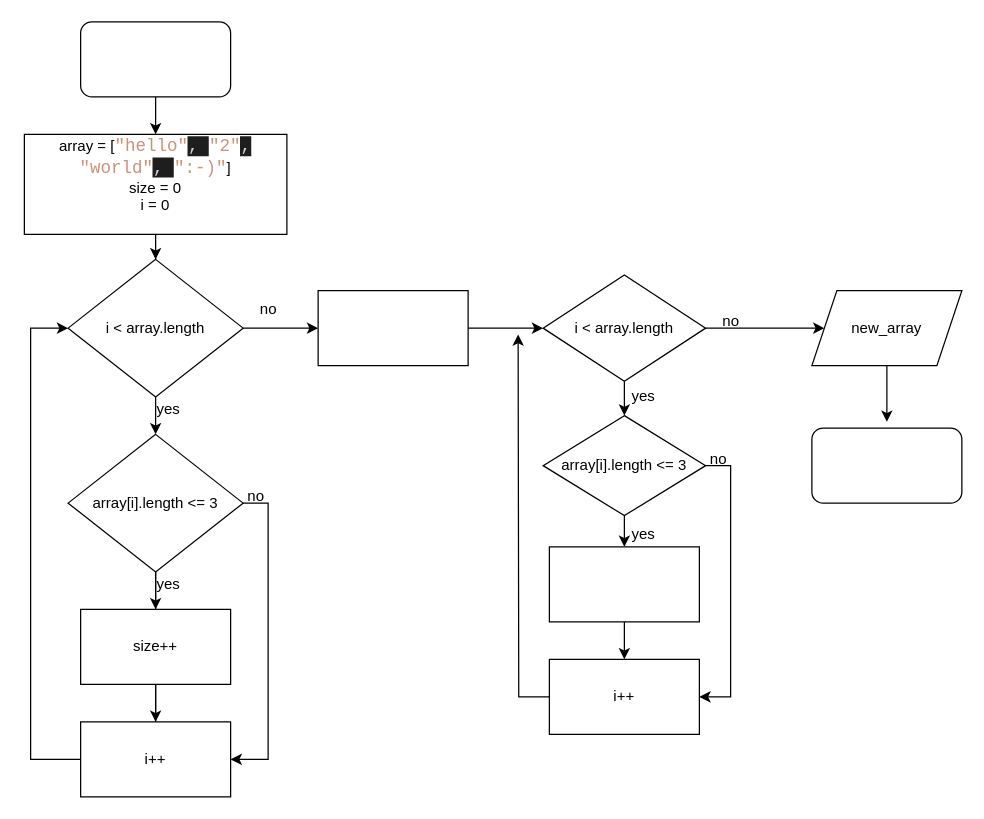
The diagram is 984 pixels wide and 819 high, and some of its shapes have lost their labels. Each missing label, with the centre of its shape:
"end" goes at [886,465].
"new_array[j] = array[i] j++" goes at [623,584].
"new_array[size] i = 0 j = 0" goes at [392,327].
"start" goes at [155,59].
